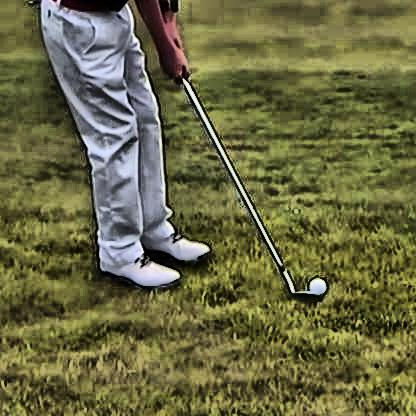golfball: (303, 270, 325, 294)
